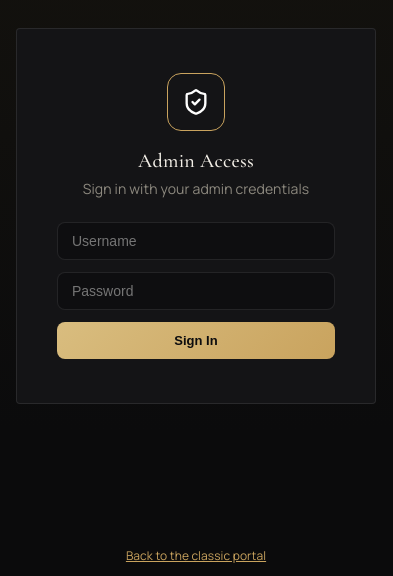
Test: signing in with a password — the admin portal › clears the message when it tries again
Type "sara" into the field labelled "Username" at (196, 241), box [57,222,335,260]
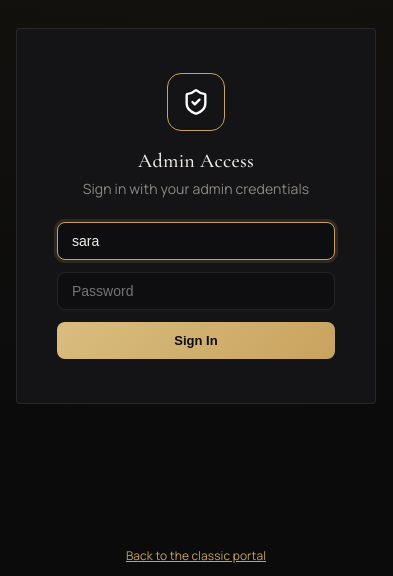
Type "pw-1" into the password field labelled "Password" at (196, 291), box [57,272,335,310]
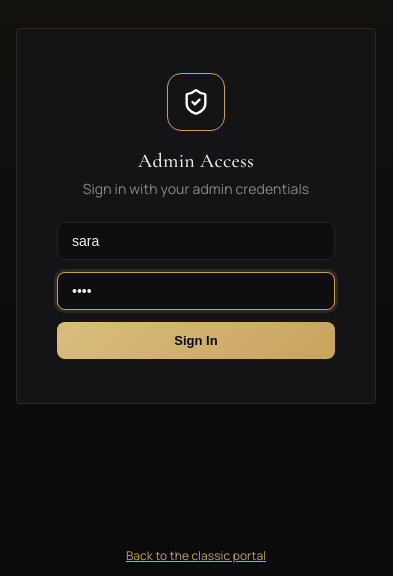
Click the button "Sign In" at (196, 340), box [57,322,335,359]
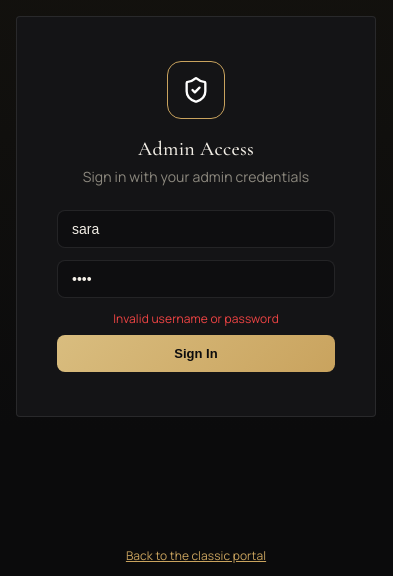
Now the message "Invalid username or password" is shown, box [113,310,279,326]
Click the button "Sign In" at (196, 353), box [57,334,335,372]
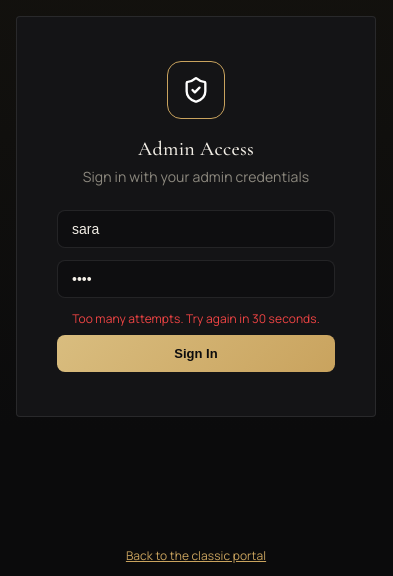
Now the message shows "30 seconds", box [72,310,320,326]
